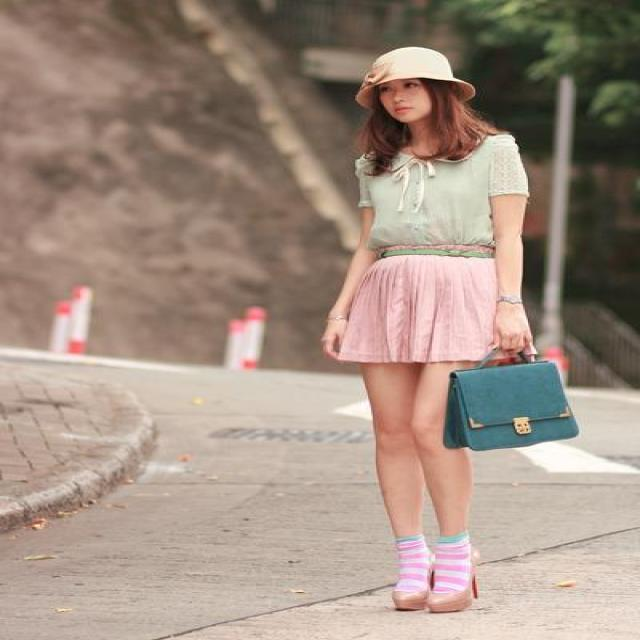bag: (443, 354, 578, 450)
hat: (355, 47, 469, 107)
shirt: (355, 141, 528, 263)
shoe: (392, 591, 474, 612)
skirt: (323, 255, 546, 366)
